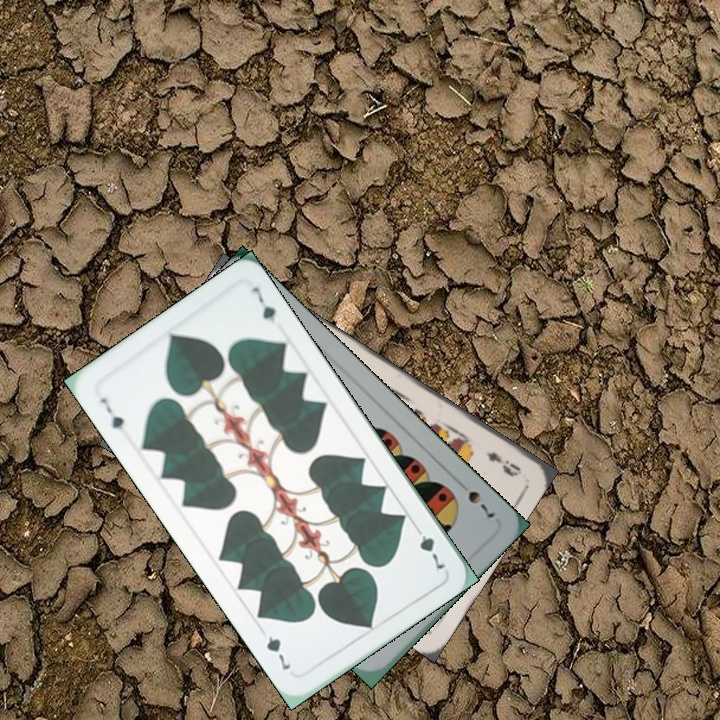E9: (483, 447, 525, 480)
G7: (409, 520, 448, 573), (95, 394, 127, 433)
S7: (453, 477, 499, 523)
